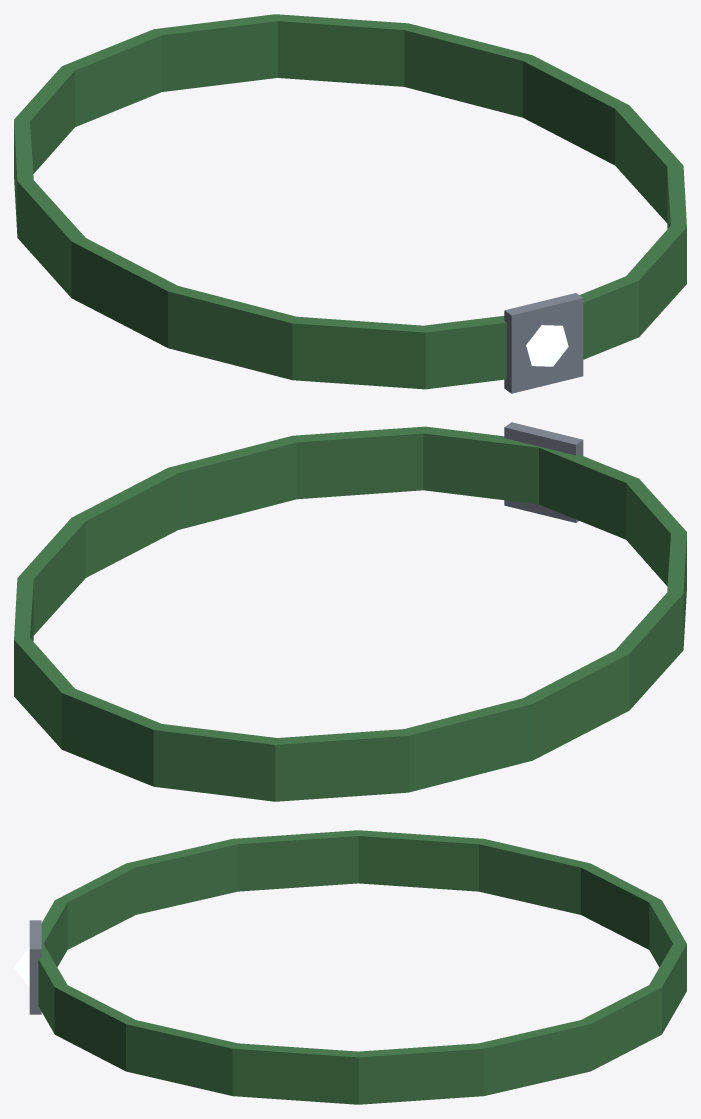
Rendered from armor_knight_head_uncommon_human.glb.
3 renders of one model, top to bottom at view 1: azimuth 30°, elevation 25°; view 2: azimuth 150°, elevation 25°; view 3: azimuth 270°, elevation 25°, orthographic. The views are drawn at different scales.
Visible parts, largest first — view 1: armor_knight_head_uncommon_human__head; view 2: armor_knight_head_uncommon_human__head; view 3: armor_knight_head_uncommon_human__head.
Part boxes in pixels (x1=…): armor_knight_head_uncommon_human__head: x1=14, y1=14, x2=686, y2=393; armor_knight_head_uncommon_human__head: x1=14, y1=422, x2=686, y2=801; armor_knight_head_uncommon_human__head: x1=14, y1=830, x2=686, y2=1104.
Bounding box in the file's own units: 54.47 × 7.3 × 68.19.
